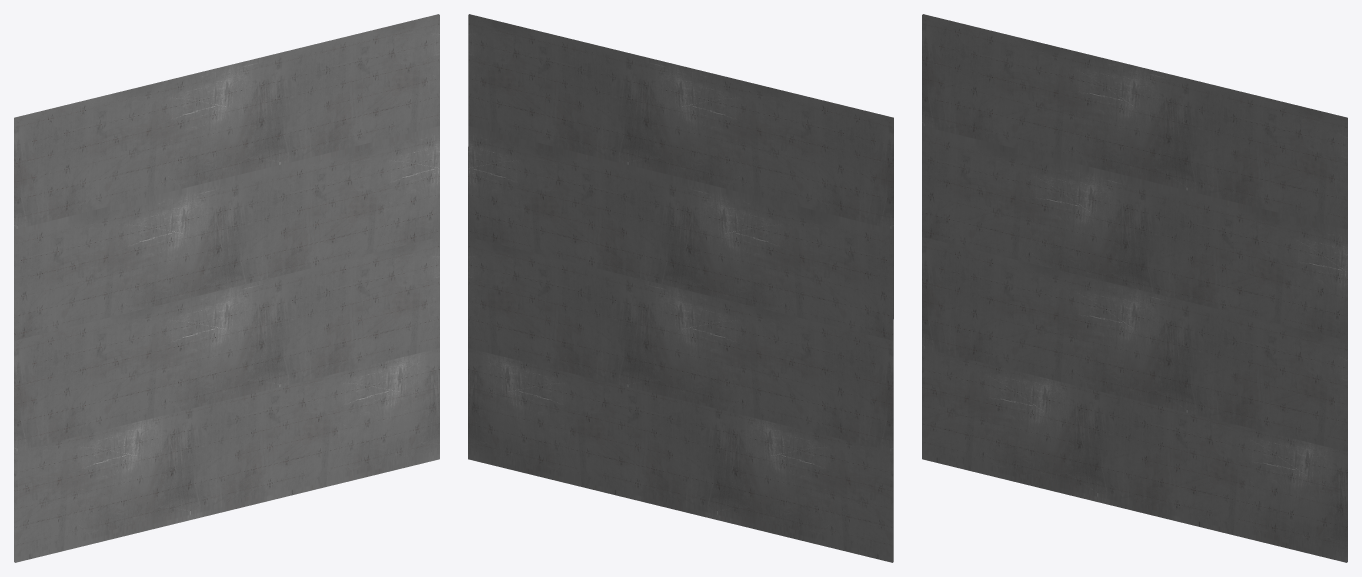
Rendered from FncMeshAMedA03.fbx.
3 views of the same model, side by side, from view 1: azimuth 30°, elevation 25°; view 2: azimuth 150°, elevation 25°; view 3: azimuth 330°, elevation 25° (orthographic).
Visible parts, largest first — view 1: FncMeshAMedA03; view 2: FncMeshAMedA03; view 3: FncMeshAMedA03.
Boxes of the visible parts, box(x1,y1,x2,y2) form: FncMeshAMedA03: box(14, 14, 439, 562); FncMeshAMedA03: box(468, 14, 893, 562); FncMeshAMedA03: box(922, 14, 1347, 562).
Size of the model in its own units: 150 by 150 by 0.551.
